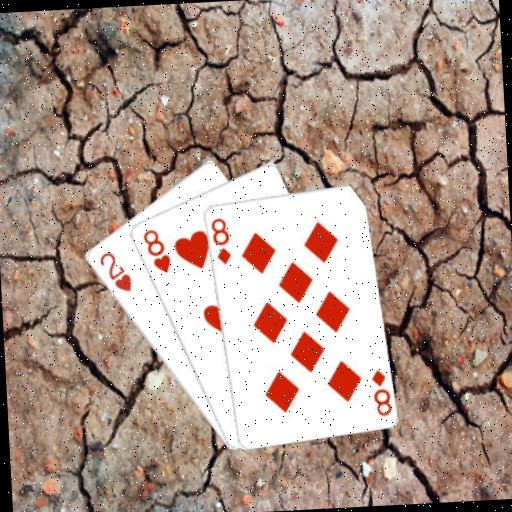2H: (96, 248, 134, 295)
8D: (207, 214, 233, 266), (368, 366, 393, 418)
8H: (139, 225, 172, 276)
